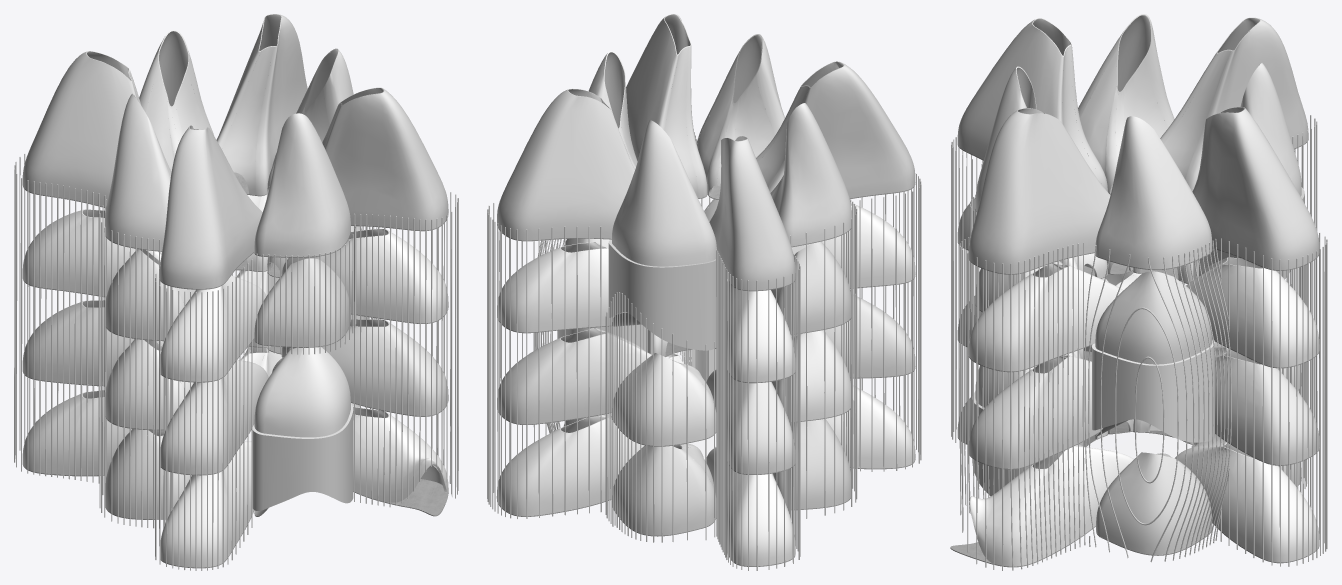
3 renders of one model, left to right at view 1: azimuth 30°, elevation 25°; view 2: azimuth 150°, elevation 25°; view 3: azimuth 270°, elevation 25°, orthographic. The views are drawn at different scales.
Visible parts, largest first — view 1: UZAYS2; view 2: UZAYS2; view 3: UZAYS2.
Part boxes in pixels (x1=…): UZAYS2: x1=14, y1=14, x2=458, y2=570; UZAYS2: x1=487, y1=14, x2=921, y2=570; UZAYS2: x1=950, y1=14, x2=1327, y2=570.
Size of the model in its own units: 50.77 by 64 by 50.9.
Materials: 5 (1 with a texture image).
